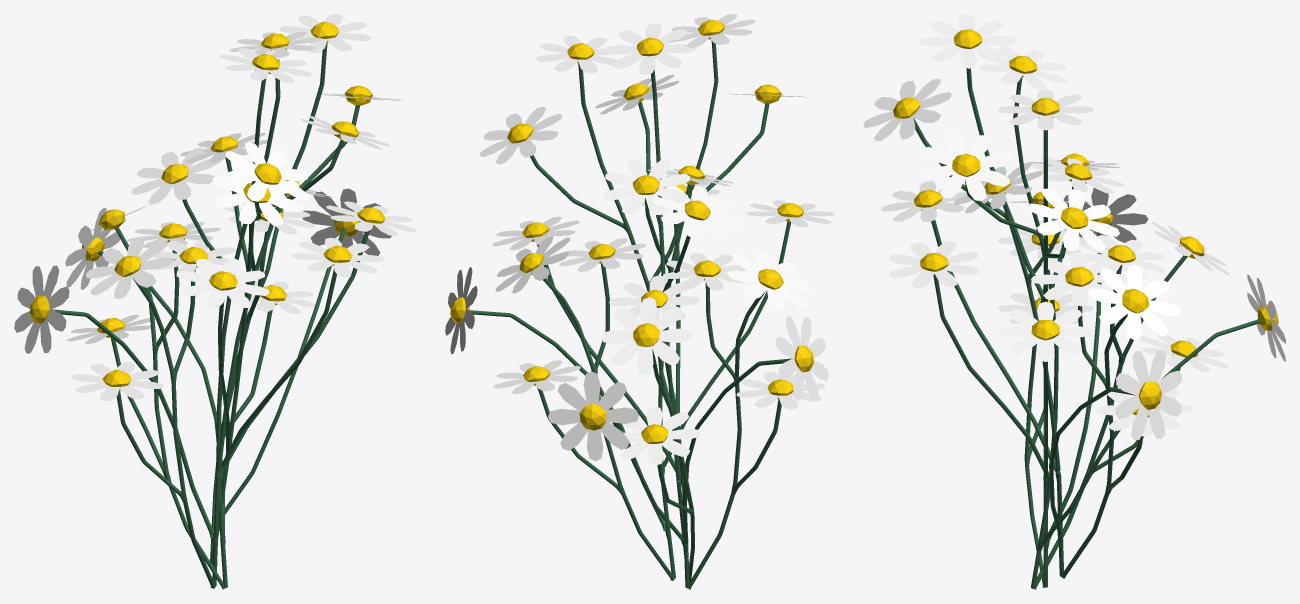
The model's file is mod_vg_camomilleM.fbx.
3 views of the same model, side by side, from view 1: azimuth 30°, elevation 25°; view 2: azimuth 150°, elevation 25°; view 3: azimuth 270°, elevation 25° (orthographic). The views are drawn at different scales.
Parts seen in each view (by area): view 1: CamomilleM; view 2: CamomilleM; view 3: CamomilleM.
Boxes of the visible parts, bbox=[...] form: CamomilleM: bbox=[14, 14, 416, 589]; CamomilleM: bbox=[445, 14, 834, 589]; CamomilleM: bbox=[863, 14, 1285, 589].
Bounding box in the file's own units: 76.14 × 108 × 73.6.
